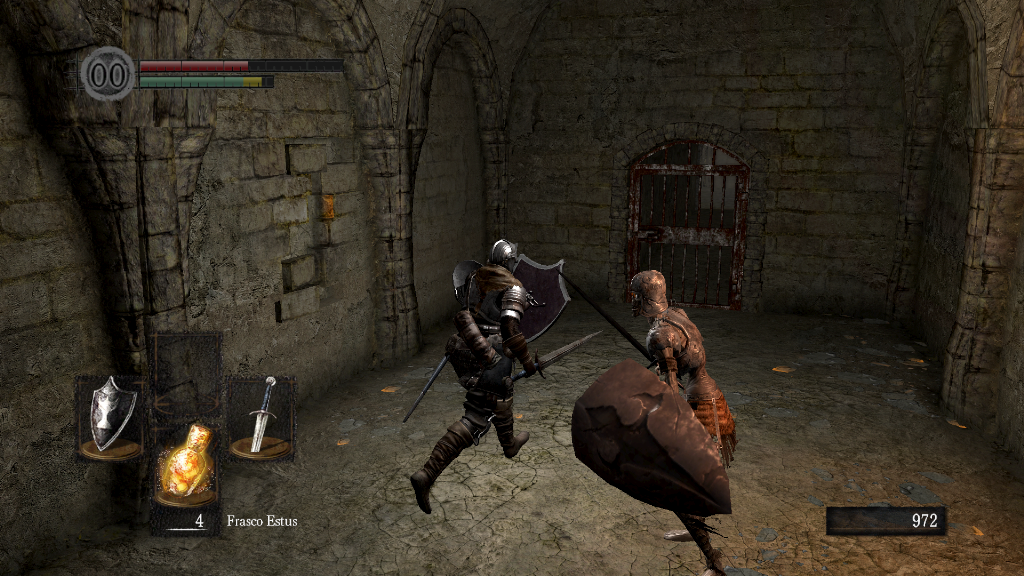health: (138, 58, 343, 71)
humanity: (80, 45, 136, 102)
player: (406, 238, 607, 510)
souls: (825, 506, 945, 536)
stamina: (138, 74, 274, 88)
undeadSoldier: (627, 268, 741, 576)
